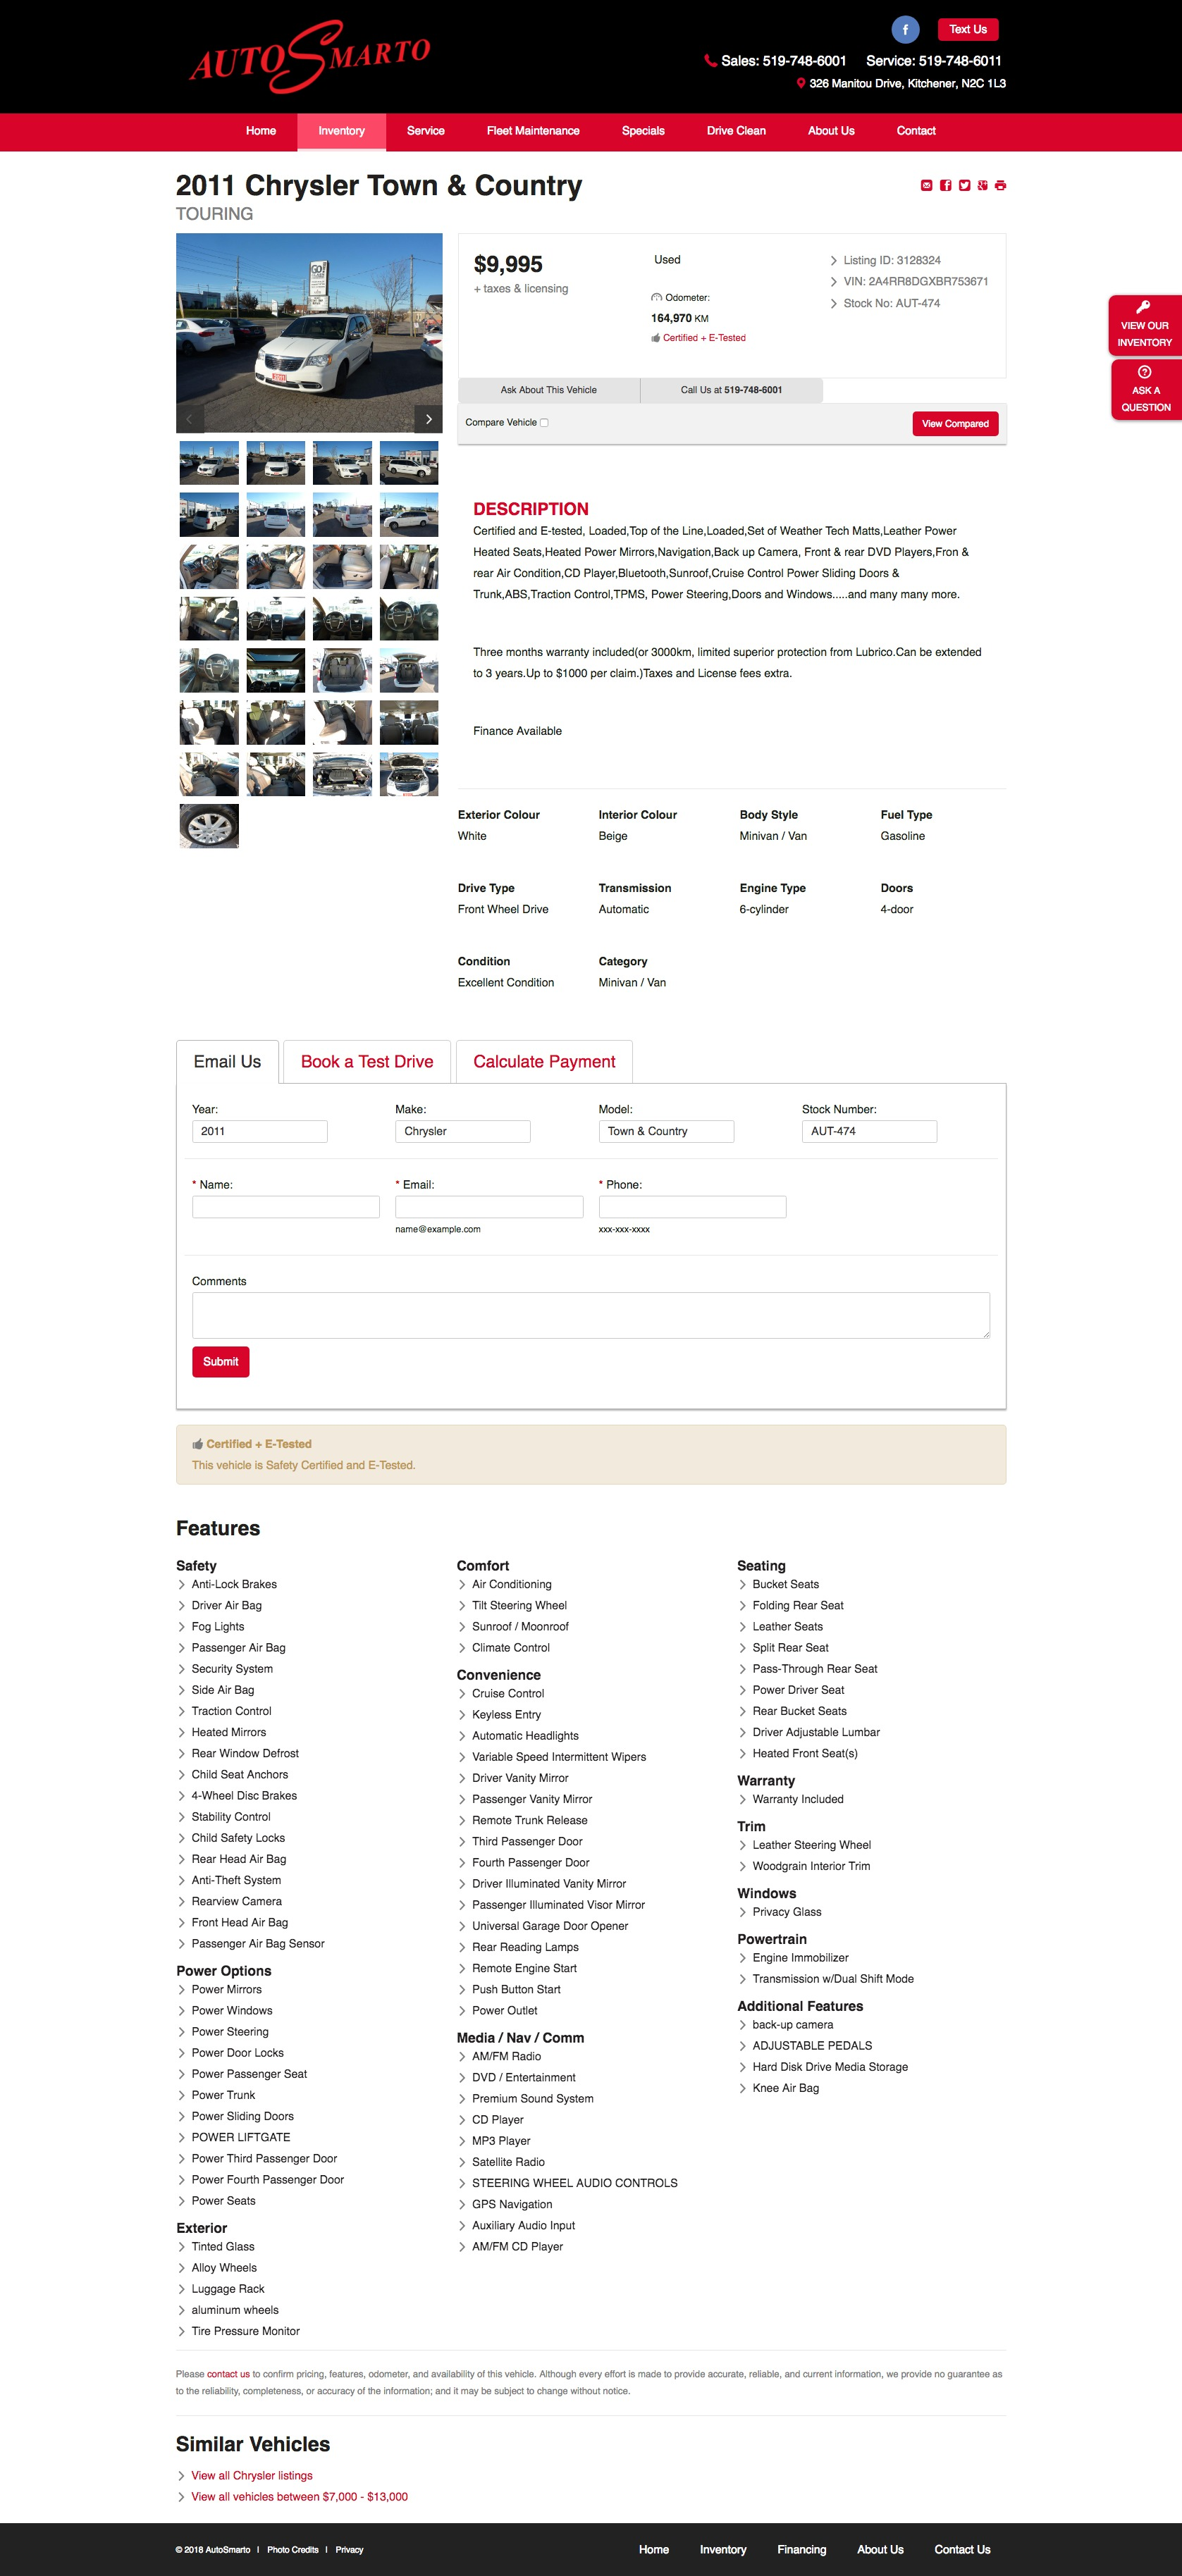car: (414, 406, 446, 435)
